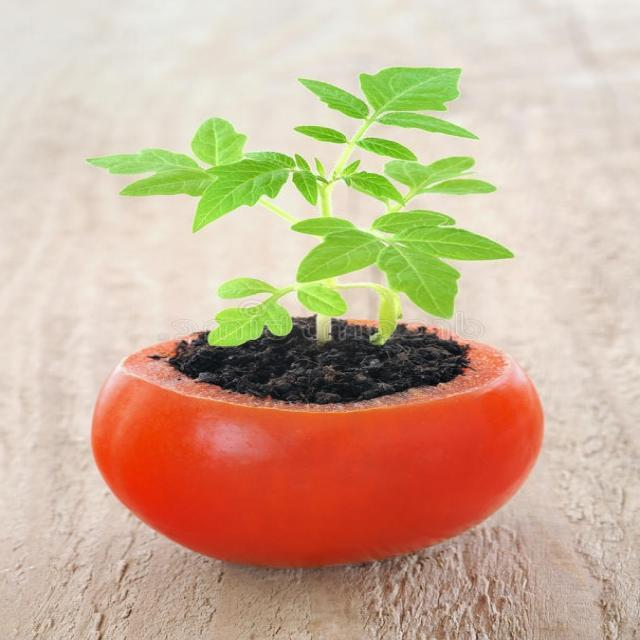tomato: (88, 66, 513, 346)
